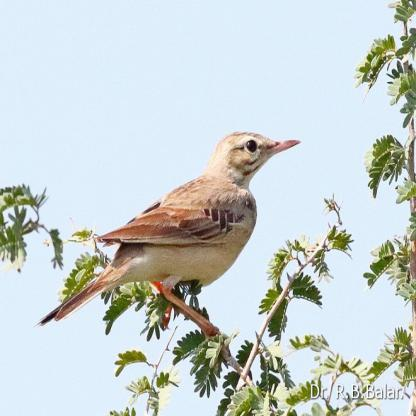Burung: (37, 132, 303, 334)
